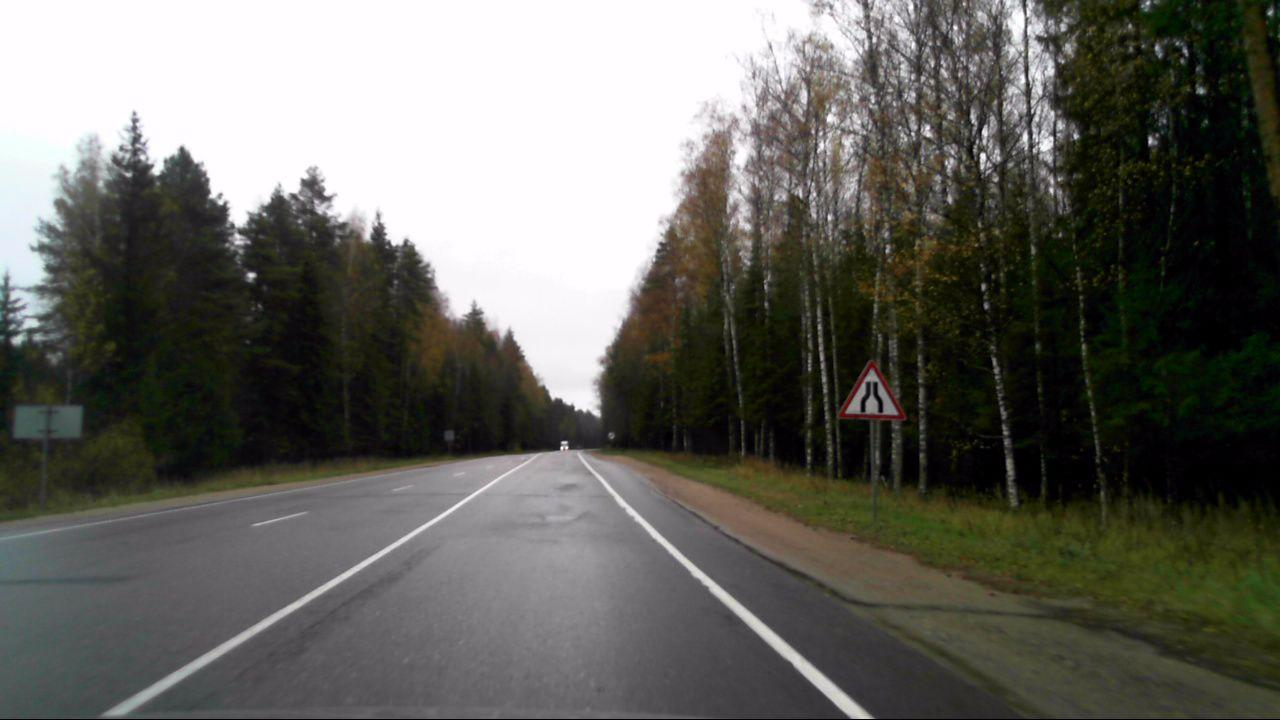1_20_1: (837, 358, 907, 422)
